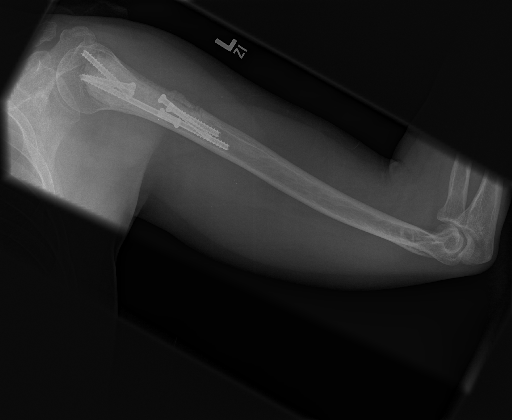implant: (157, 89, 232, 161), (75, 44, 146, 111)
